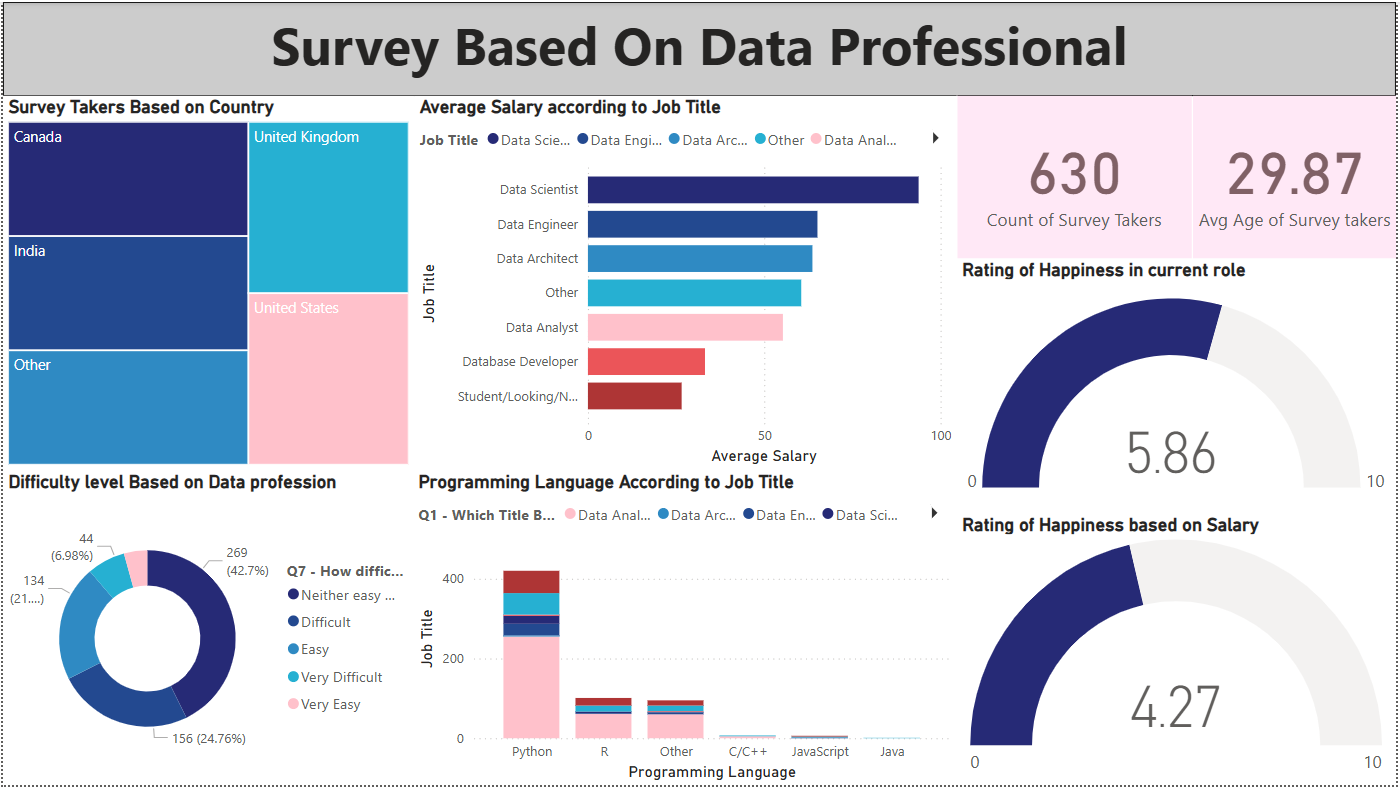

The page's visual inventory and layout, read from the dashboard file:
{"tool":"powerbi","page":{"name":"Page 1","canvas":[1280,720],"ordinal":0},"visuals":[{"type":"textbox","box":[0,0,1280.2,86],"z":0},{"type":"card","fields":{"Values":["CountNonNull(Data Professional Survey.Unique ID)"]},"box":[876.7,86,216.3,150],"z":1},{"type":"card","fields":{"Values":["Avg(Data Professional Survey.Q10 - Current Age)"]},"box":[1093,86,187.2,150],"z":2},{"type":"barChart","title":"Average Salary according to Job Title","fields":{"Y":["Avg(Data Professional Survey.Average Salary)"],"Category":["Data Professional Survey.Q1 - Which Title Best Fits your Current Role?.1"],"Series":["Data Professional Survey.Q1 - Which Title Best Fits your Current Role?.1"]},"box":[377.9,86,498.8,344.2],"z":3},{"type":"columnChart","title":"Programming Language According to Job Title","fields":{"Category":["Data Professional Survey.Q5 - Favorite Programming Language.1"],"Y":["CountNonNull(Data Professional Survey.Q1 - Which Title Best Fits your Current Role?.1)"],"Series":["Data Professional Survey.Q1 - Which Title Best Fits your Current Role?.1"]},"box":[376.7,430.2,498.8,289.5],"z":4},{"type":"gauge","title":"Rating of Happiness in current role","fields":{"Y":["Avg(Data Professional Survey.Q6 - How Happy are you in your Current Position with the following? (Coworkers))"],"MinValue":["Min(Data Professional Survey.Q6 - How Happy are you in your Current Position with the following? (Coworkers))"],"MaxValue":["Max(Data Professional Survey.Q6 - How Happy are you in your Current Position with the following? (Coworkers))"]},"box":[876.7,236,403.5,233.7],"z":5},{"type":"gauge","title":"Rating of Happiness based on Salary","fields":{"Y":["Avg(Data Professional Survey.Q6 - How Happy are you in your Current Position with the following? (Salary))"],"MinValue":["Min(Data Professional Survey.Q6 - How Happy are you in your Current Position with the following? (Salary))"],"MaxValue":["Max(Data Professional Survey.Q6 - How Happy are you in your Current Position with the following? (Salary))1"]},"box":[876.7,469.8,403.5,250],"z":6},{"type":"treemap","title":"Survey Takers Based on Country","fields":{"Group":["Data Professional Survey.Q11 - Which Country do you live in?.1"],"Values":["Count(Data Professional Survey.Q11 - Which Country do you live in?.1)"]},"box":[0,86,377.9,344.2],"z":7},{"type":"donutChart","title":"Difficulty level Based on Data profession","fields":{"Category":["Data Professional Survey.Q7 - How difficult was it for you to break into Data?"],"Y":["CountNonNull(Data Professional Survey.Q7 - How difficult was it for you to break into Data?)"]},"box":[0,430.2,376.7,289.5],"z":8}]}

Visuals, with their boxes in screenshot pixels (x1, y1, x2, y2), scaled from the page's 1280x720 canvas onto the 1400x788 screenshot:
textbox: (left=0, top=0, right=1399, bottom=94)
card - CountNonNull(Data Professional Survey.Unique ID): (left=959, top=94, right=1195, bottom=258)
card - Avg(Data Professional Survey.Q10 - Current Age): (left=1195, top=94, right=1399, bottom=258)
"Average Salary according to Job Title" barChart: (left=413, top=94, right=959, bottom=471)
"Programming Language According to Job Title" columnChart: (left=412, top=471, right=958, bottom=787)
"Rating of Happiness in current role" gauge: (left=959, top=258, right=1399, bottom=514)
"Rating of Happiness based on Salary" gauge: (left=959, top=514, right=1399, bottom=787)
"Survey Takers Based on Country" treemap: (left=0, top=94, right=413, bottom=471)
"Difficulty level Based on Data profession" donutChart: (left=0, top=471, right=412, bottom=787)
